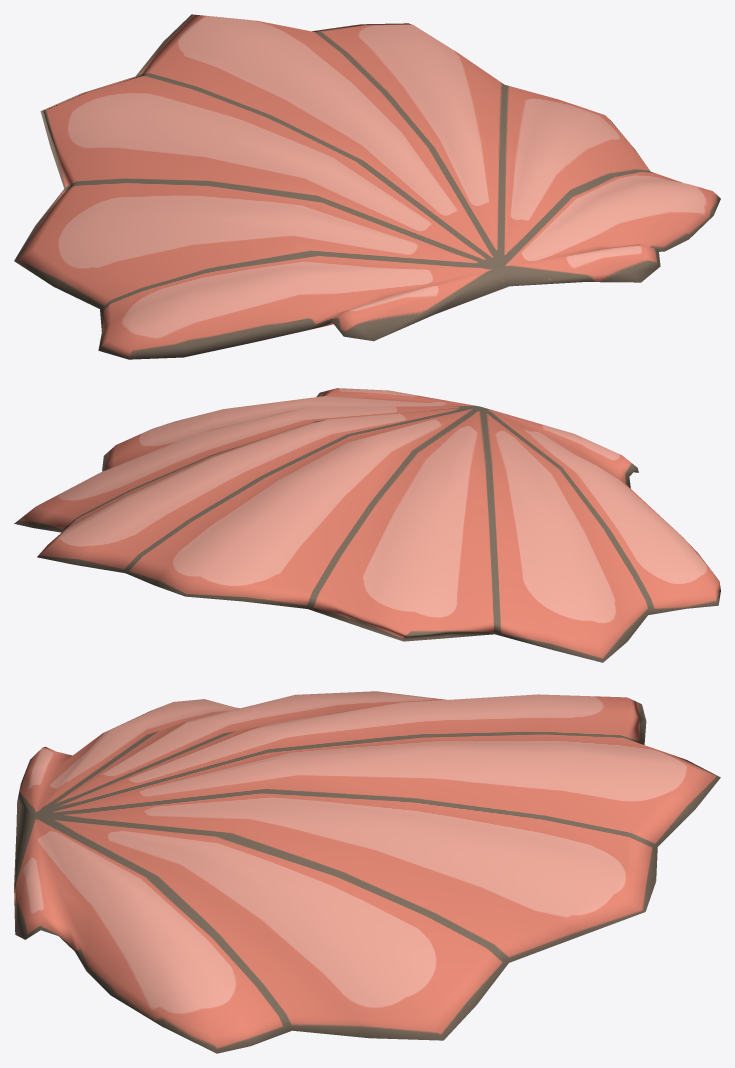
Rendered from Sea_Shell_2.fbx.
The picture shows the model from 3 angles, top to bottom: view 1: azimuth 30°, elevation 25°; view 2: azimuth 150°, elevation 25°; view 3: azimuth 270°, elevation 25°; orthographic projection. The views are drawn at different scales.
Visible parts, largest first — view 1: SeaShell; view 2: SeaShell; view 3: SeaShell.
Boxes of the visible parts, box(x1,y1,x2,y2) form: SeaShell: box(14, 14, 720, 359); SeaShell: box(14, 388, 720, 662); SeaShell: box(14, 691, 720, 1053).
Bounding box in the file's own units: 34.43 × 6.52 × 30.02.
Materials: 1 (1 with a texture image).
